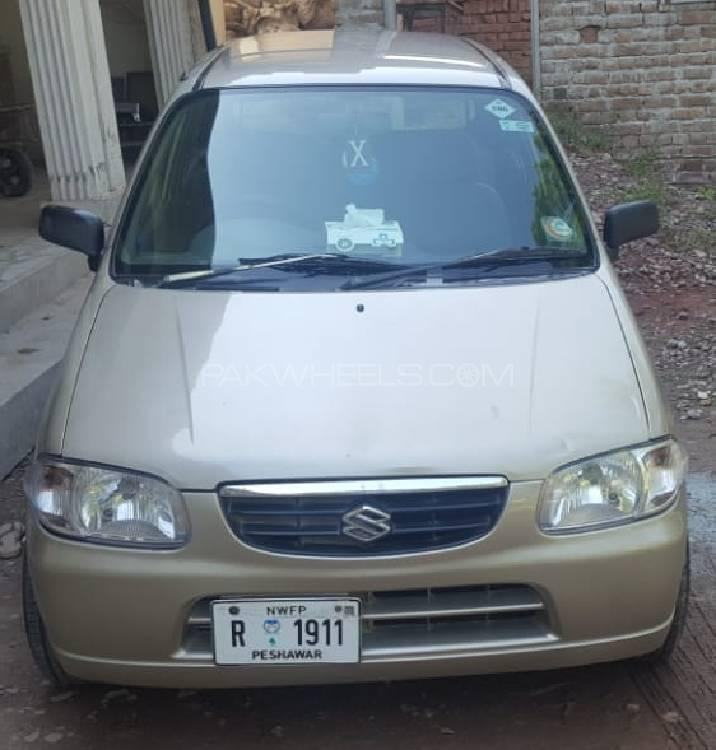license plate: (211, 598, 359, 663)
